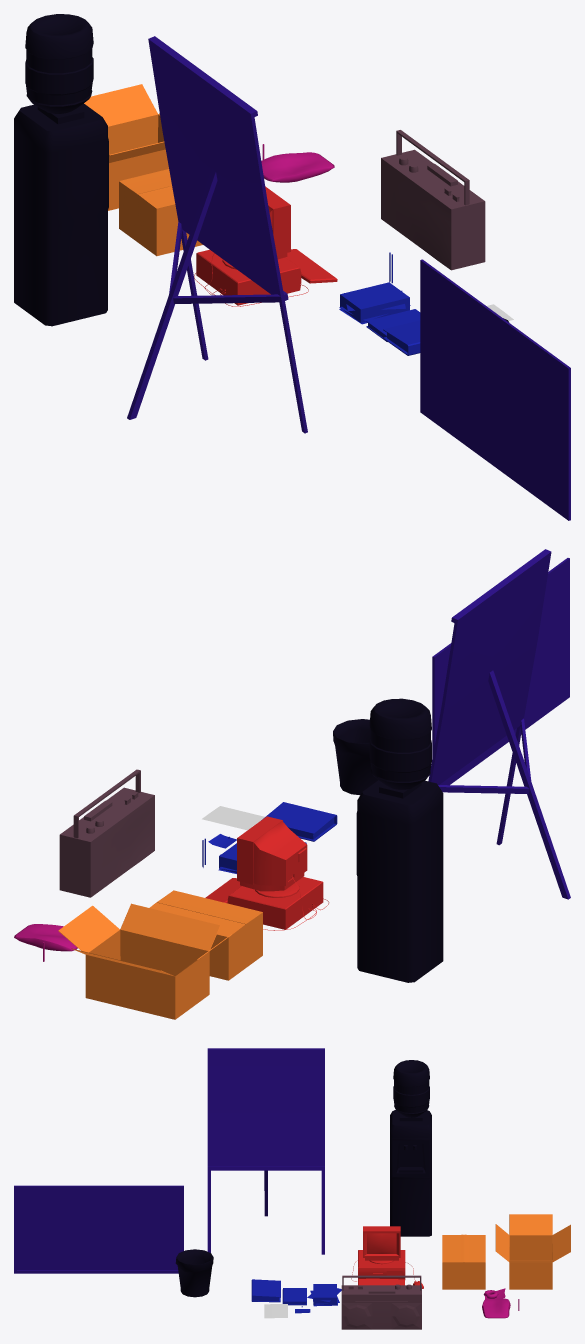
Rendered from Assets_01.fbx.
3 renders of one model, top to bottom at view 1: azimuth 30°, elevation 25°; view 2: azimuth 150°, elevation 25°; view 3: azimuth 270°, elevation 25°, orthographic. The views are drawn at different scales.
Parts seen in each view (by area): view 1: Board, PresentationBoard, WaterCooler, Box023, CoolerBottle, PaperBox002, Computer, PaperBox003, Papers, WeedPack, File, book; view 2: PresentationBoard, WaterCooler, PaperBox002, Box023, Computer, Board, CoolerBottle, PaperBox003, Bin, File, WeedPack, Box019; view 3: PresentationBoard, Board, WaterCooler, PaperBox002, Box023, Computer, PaperBox003, CoolerBottle, Bin, File, Papers, WeedPack (+1 smaller).
Part boxes in pixels (box(x1,y1,x2,y2)): Board: box(420, 259, 570, 520); PresentationBoard: box(127, 36, 307, 433); WaterCooler: box(14, 103, 108, 326); Box023: box(381, 130, 485, 270); CoolerBottle: box(25, 14, 93, 113); PaperBox002: box(84, 84, 168, 210); Computer: box(194, 186, 337, 306); PaperBox003: box(119, 169, 202, 256); Papers: box(339, 282, 410, 324); WeedPack: box(261, 152, 334, 182); File: box(383, 320, 420, 355); book: box(366, 309, 420, 341); PresentationBoard: box(428, 549, 570, 899); WaterCooler: box(356, 780, 443, 982); PaperBox002: box(58, 903, 231, 1019); Box023: box(59, 769, 154, 897); Computer: box(205, 816, 329, 930); Board: box(432, 558, 569, 785); CoolerBottle: box(369, 698, 431, 789); PaperBox003: box(149, 890, 262, 980); Bin: box(333, 719, 377, 795); File: box(261, 802, 337, 841); WeedPack: box(14, 924, 77, 951); Box019: box(202, 806, 264, 830); PresentationBoard: box(207, 1048, 324, 1254); Board: box(14, 1185, 183, 1273); WaterCooler: box(390, 1110, 431, 1236); PaperBox002: box(495, 1214, 570, 1289); Box023: box(341, 1275, 421, 1329); Computer: box(351, 1226, 423, 1288); PaperBox003: box(442, 1234, 485, 1289); CoolerBottle: box(393, 1060, 429, 1117); Bin: box(175, 1249, 213, 1297); File: box(251, 1279, 280, 1302); Papers: box(307, 1284, 341, 1306); WeedPack: box(482, 1298, 510, 1318).
Bounding box in the file's own units: 248 × 186 × 492.
